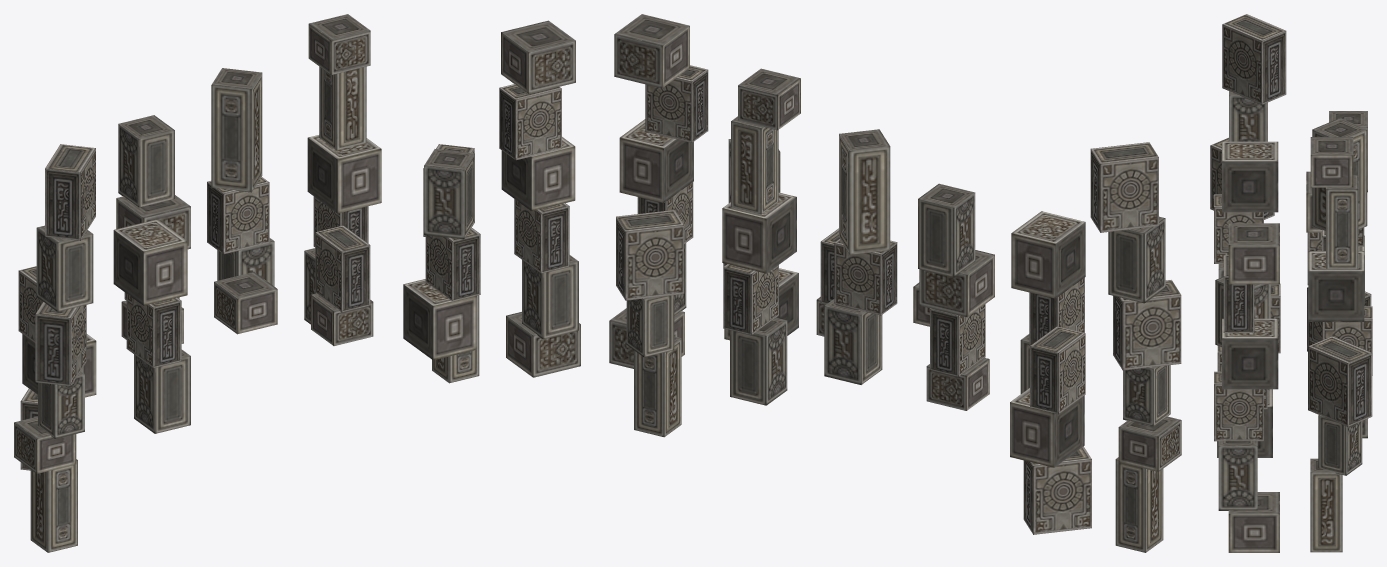
The model's file is DN_jurenzuCX_bd02.FBX.
3 views of the same model, side by side, from view 1: azimuth 30°, elevation 25°; view 2: azimuth 150°, elevation 25°; view 3: azimuth 270°, elevation 25° (orthographic). The views are drawn at different scales.
Parts seen in each view (by area): view 1: DN_jurenzuCX_bd02; view 2: DN_jurenzuCX_bd02; view 3: DN_jurenzuCX_bd02.
Part boxes in pixels (bbox=[...]): DN_jurenzuCX_bd02: bbox=[14, 14, 580, 552]; DN_jurenzuCX_bd02: bbox=[609, 14, 1181, 552]; DN_jurenzuCX_bd02: bbox=[1210, 14, 1372, 552].
Size of the model in its own units: 733 by 525 by 203.
